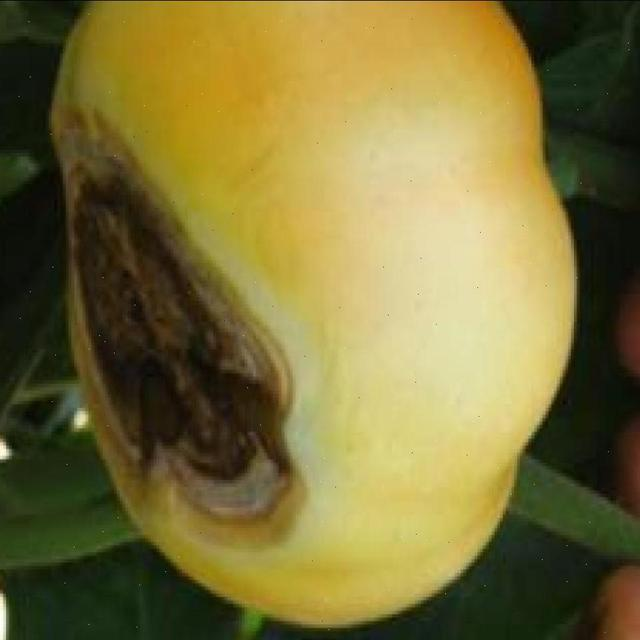Blossom End Rot Fruit: (42, 68, 206, 362)
